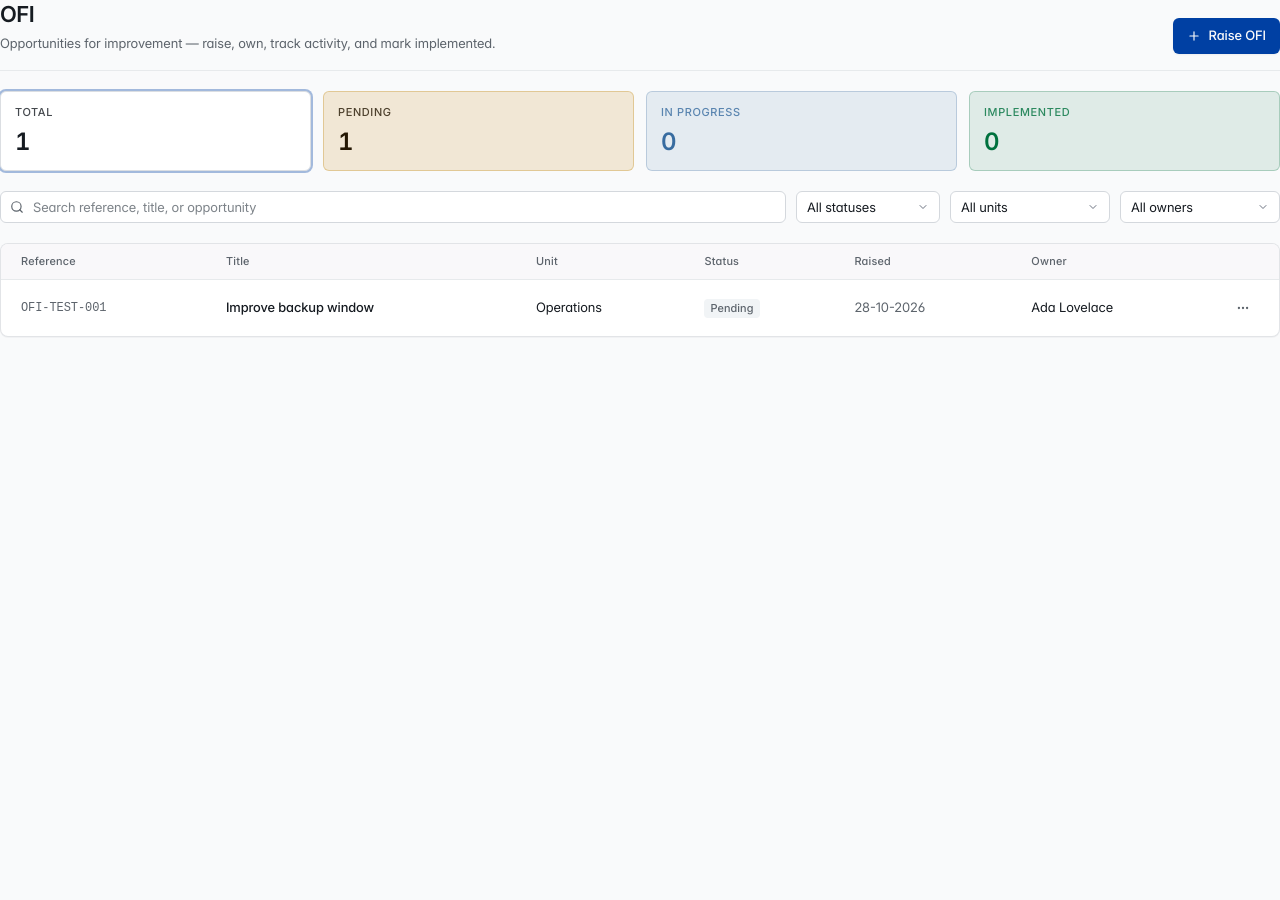
Test case: OfisListPage › shows lifecycle timeline and linked controls panels
Click the text "Improve backup window" at (365, 308), box x1=210 y1=280 x2=520 y2=336
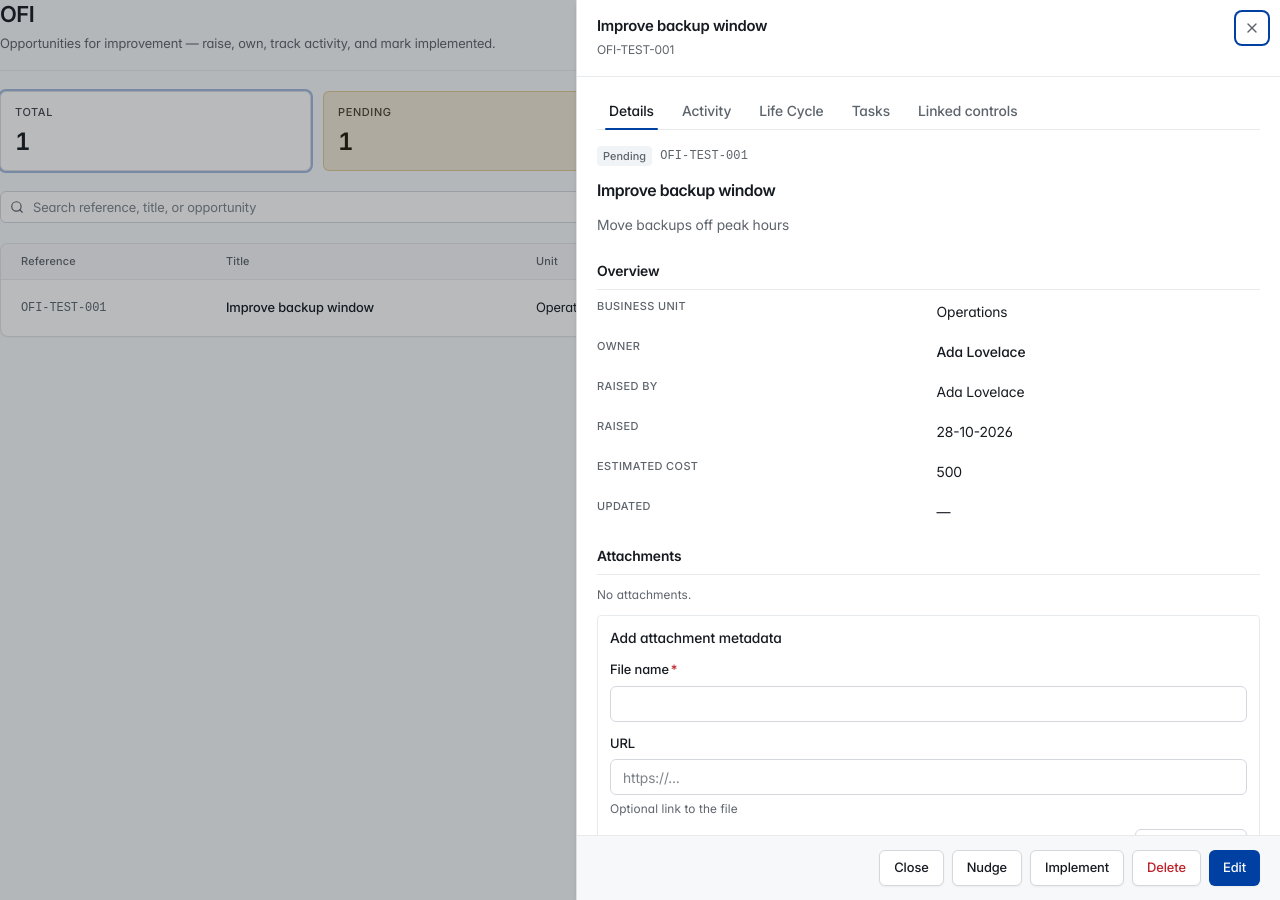
Click the tab "Life Cycle" at (792, 111), box x1=747 y1=93 x2=836 y2=129
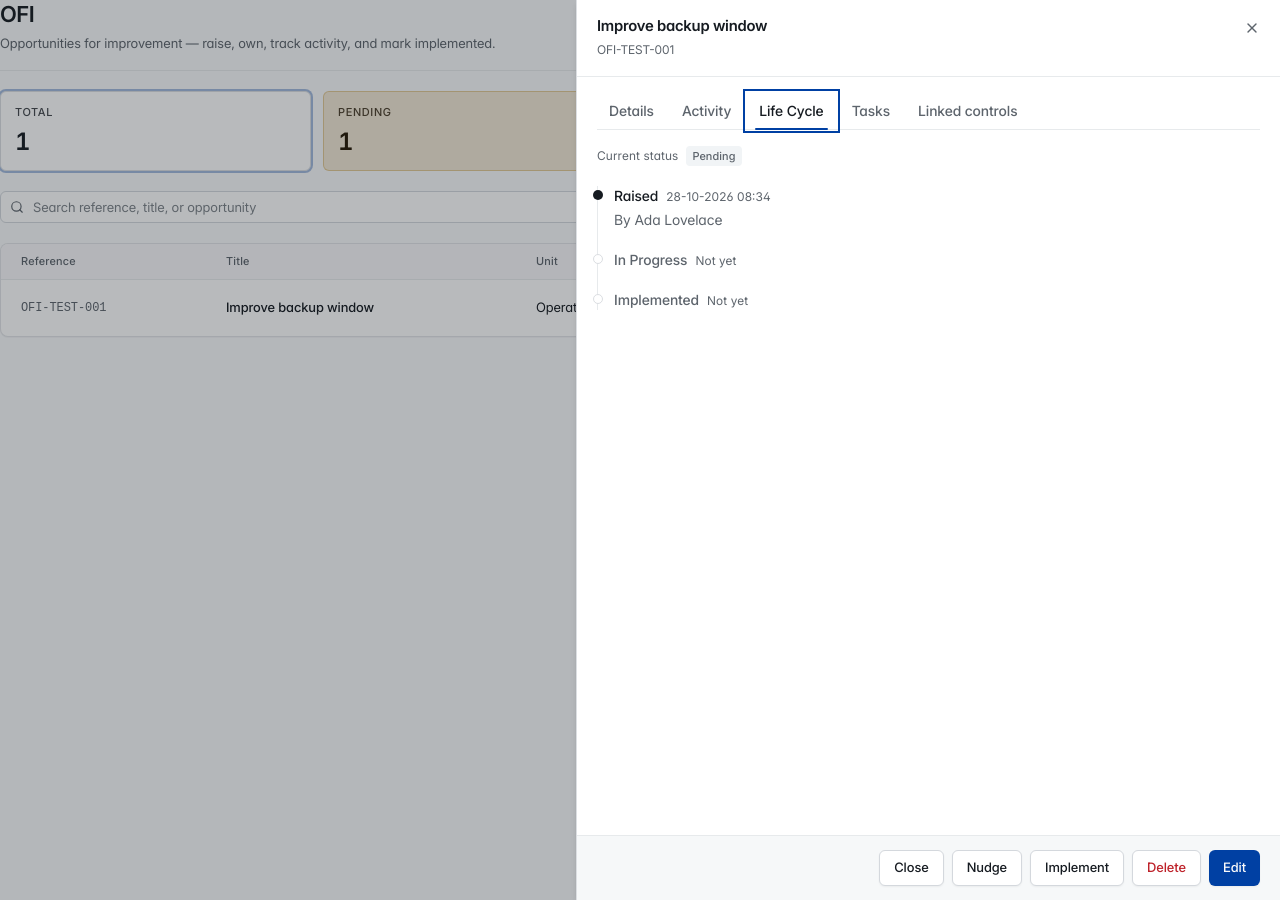
Expected: the text "Current status" is shown, x1=597 y1=148 x2=678 y2=164
Expected: the 1st text "Not yet" is shown, x1=695 y1=253 x2=736 y2=269
Click the tab "Linked controls" at (968, 111), box x1=906 y1=93 x2=1029 y2=129
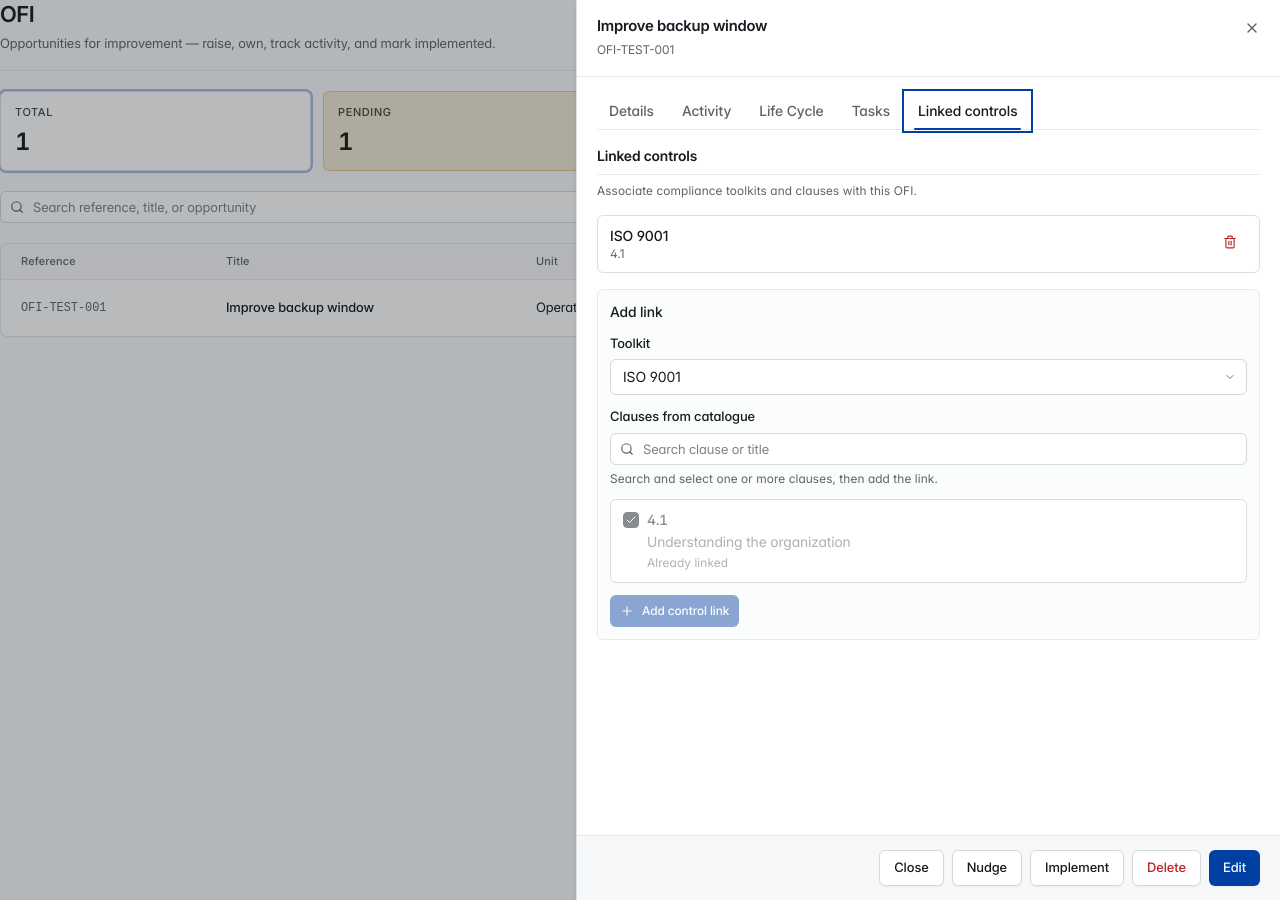
Expected: the link "ISO 9001" is shown, x1=610 y1=227 x2=668 y2=244
Expected: the text "4.1" below "ISO 9001" is shown, x1=610 y1=246 x2=625 y2=261
Expected: the text "Understanding the organization" is shown, x1=647 y1=532 x2=851 y2=552
Click the tab "Tasks" at (871, 111), box x1=840 y1=93 x2=902 y2=129
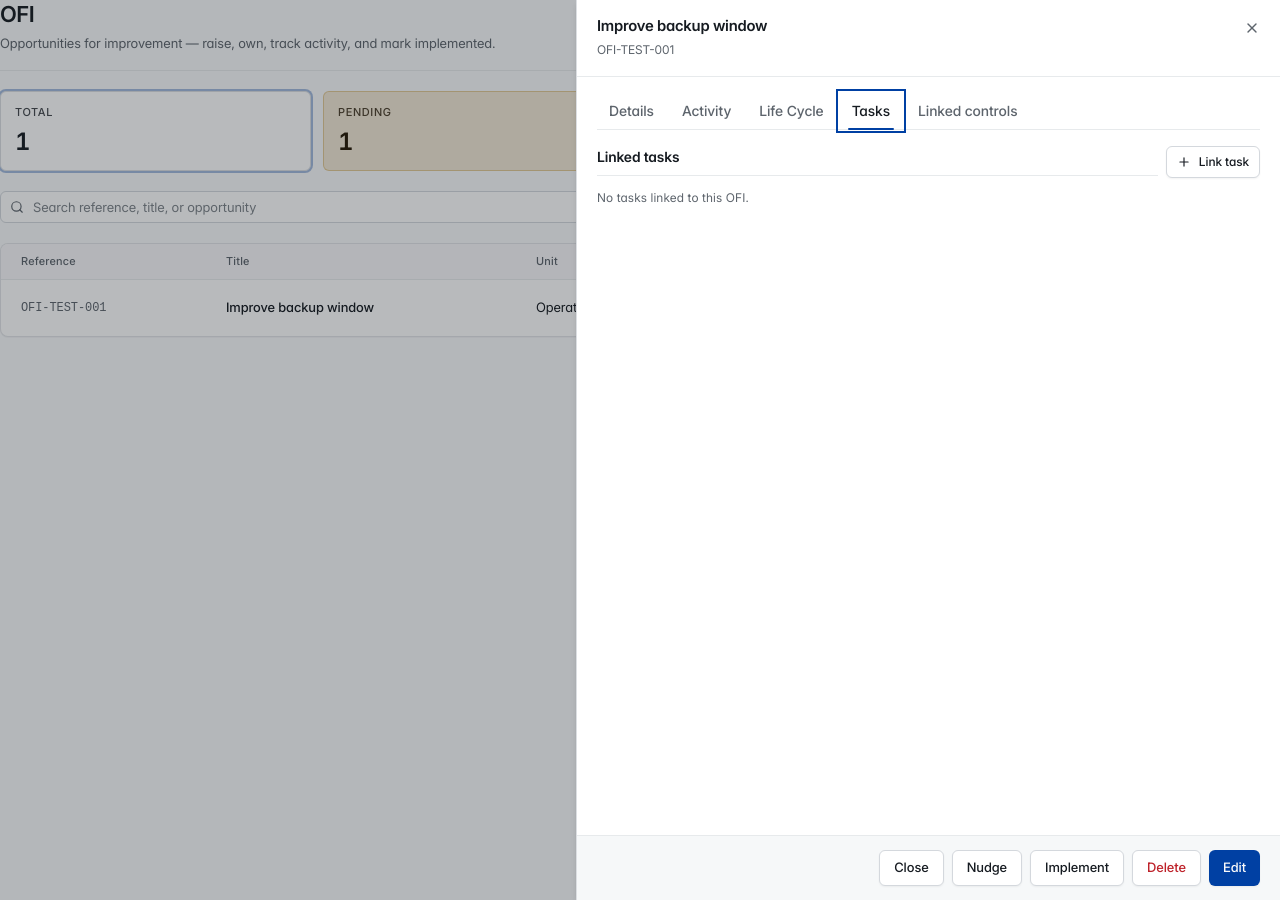
Expected: the text "No tasks linked to this OFI." is shown, x1=597 y1=190 x2=749 y2=205
Click the tab "Activity" at (707, 111), box x1=670 y1=93 x2=743 y2=129
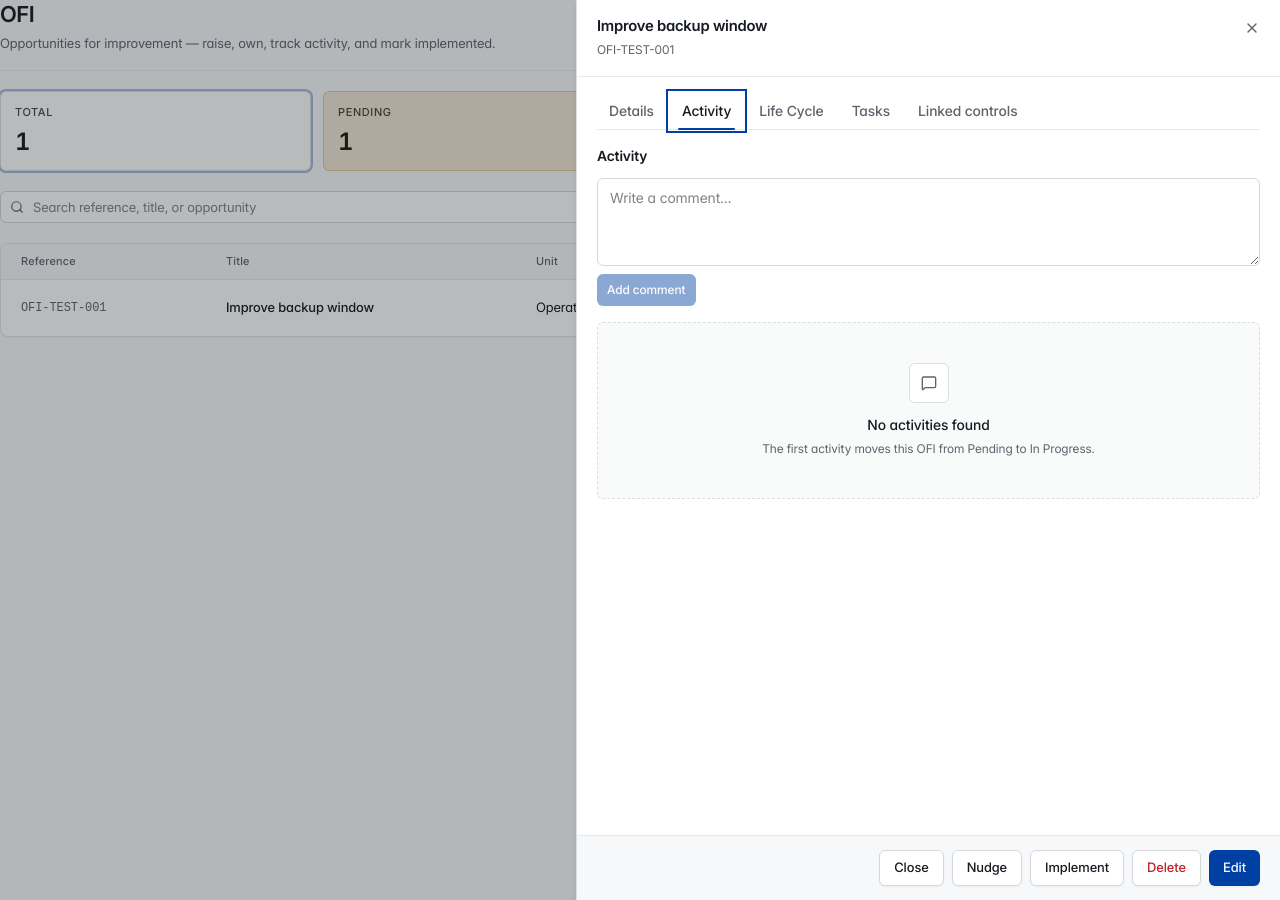
Expected: the text "The first activity moves this OFI" is shown, x1=762 y1=441 x2=1095 y2=456
